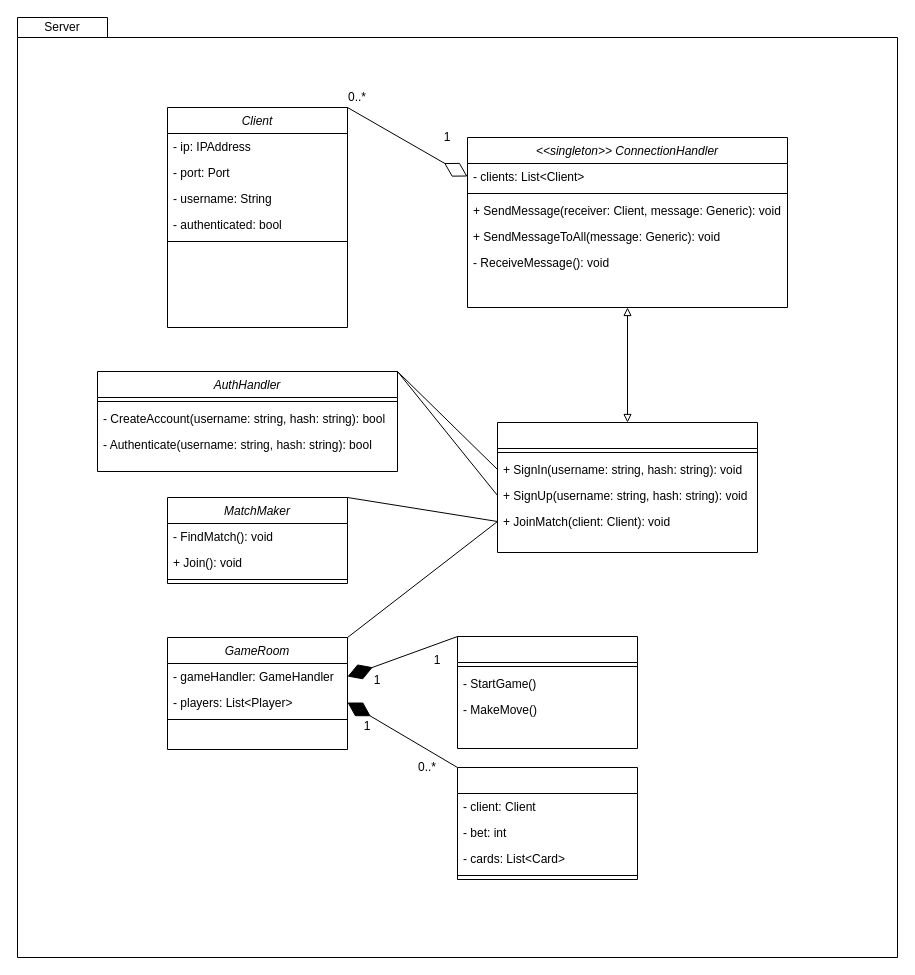
The diagram is 915 pixels wide and 975 high, and some of its shapes have lost their labels. Each missing label, with the box of its shape:
ClientInterface: (496, 422, 758, 552)
GameHandler: (456, 636, 638, 748)
Player: (456, 766, 638, 880)
